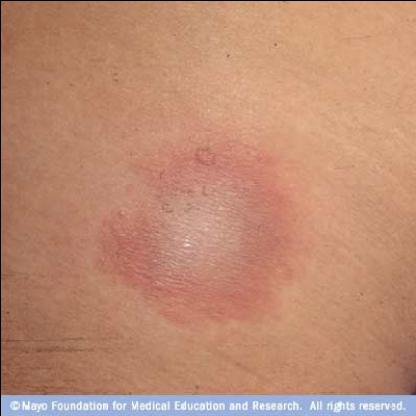Tick: (90, 130, 312, 328)
